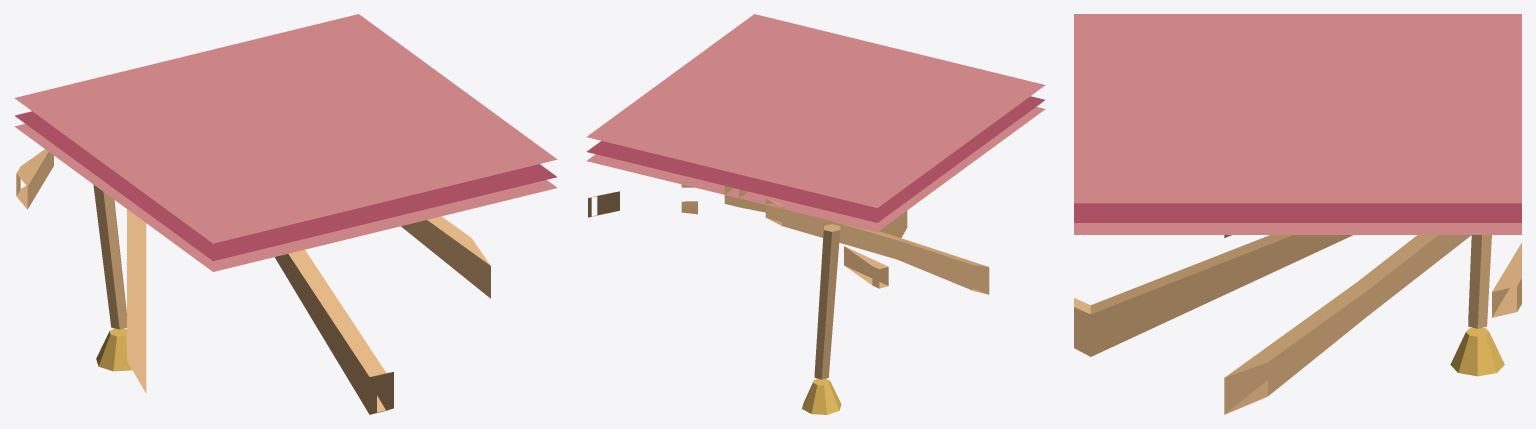
File: cell_080.obj
3 views of the same model, side by side, from view 1: azimuth 30°, elevation 25°; view 2: azimuth 150°, elevation 25°; view 3: azimuth 270°, elevation 25° (orthographic). The views are drawn at different scales.
Size of the model in its own units: 1 by 0.7487 by 1.
